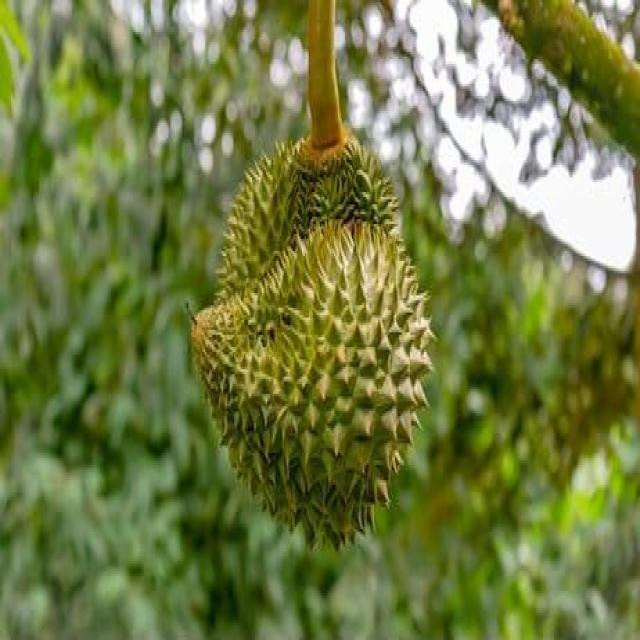immature: (193, 130, 436, 552)
